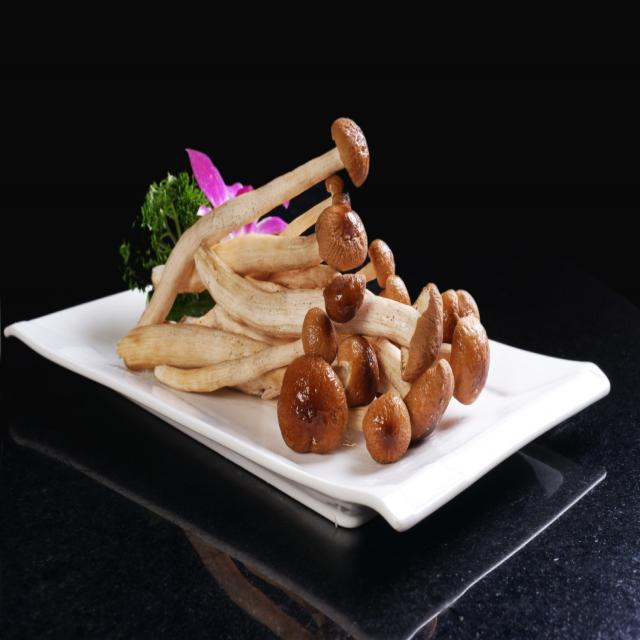Agrocybe aegerita: (122, 117, 489, 458)
